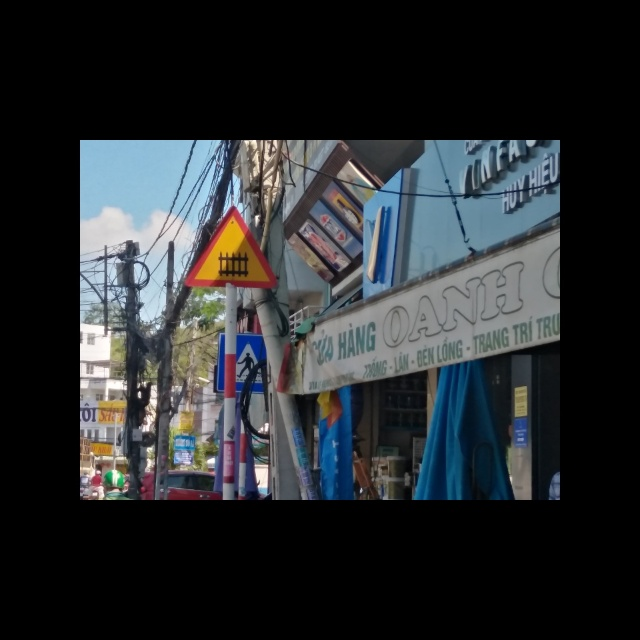Giao nhau với đường sắt có rào chắn: (184, 207, 276, 289)
